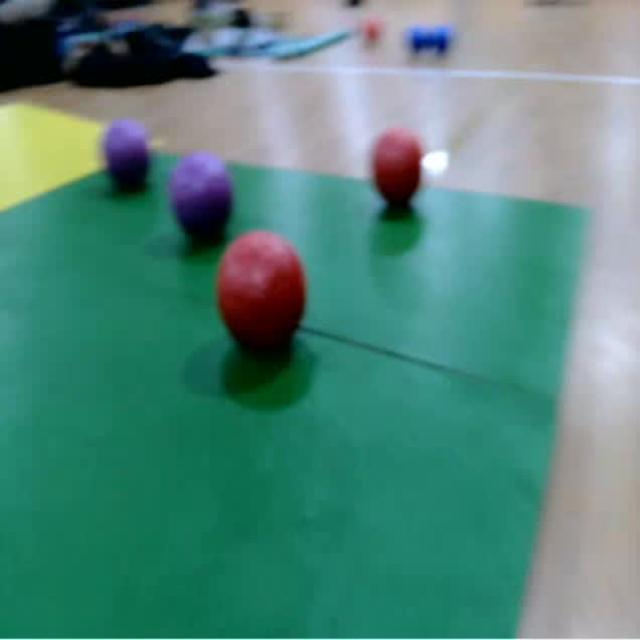purple_ball: (170, 146, 234, 242), (104, 120, 151, 185)
red_ball: (218, 232, 304, 346), (372, 127, 424, 202)
